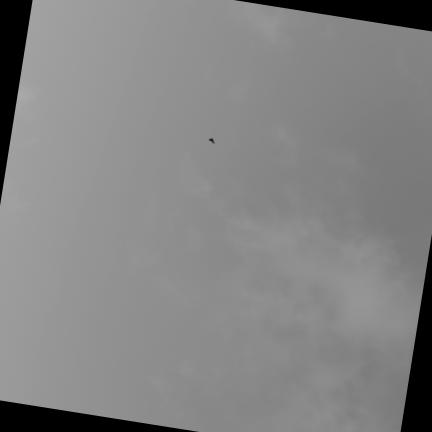Shahed: (208, 138, 214, 144)
